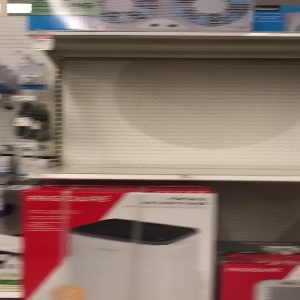void: (58, 34, 300, 174)
